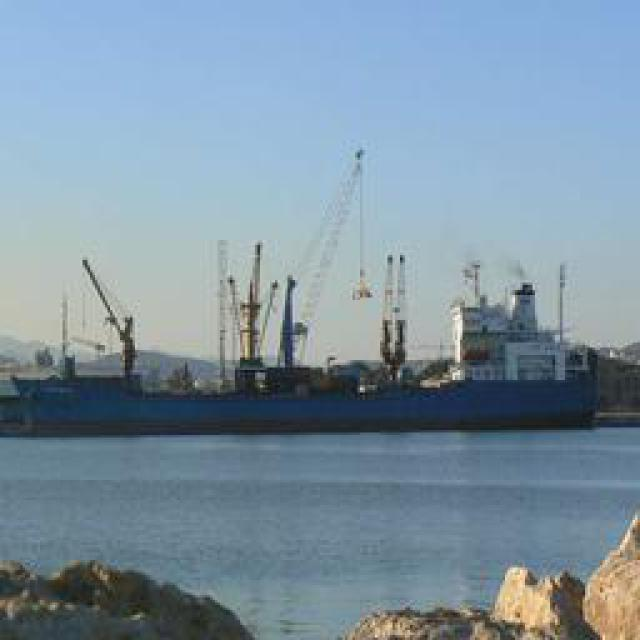Ship: (17, 156, 600, 431)
